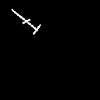double_crochet: (12, 9, 39, 33)
